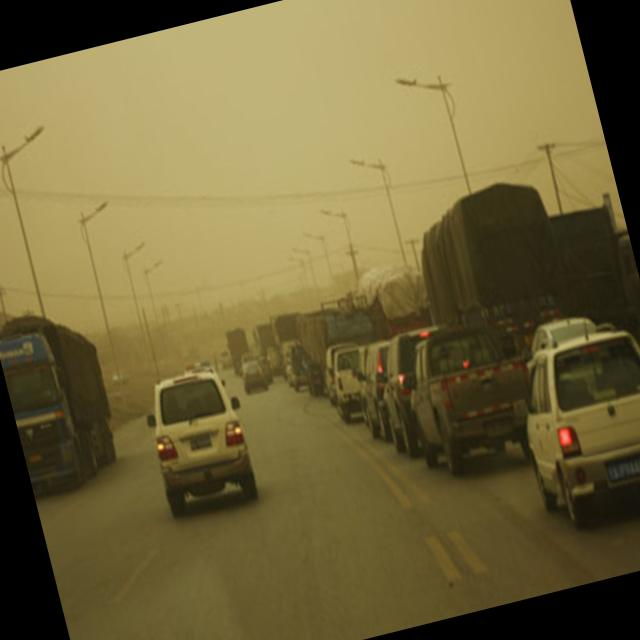car: (498, 306, 640, 545), (400, 311, 546, 485), (136, 359, 268, 524), (373, 329, 455, 459), (345, 338, 409, 436), (329, 339, 388, 425), (321, 343, 375, 419), (284, 343, 312, 392), (237, 354, 270, 394)
